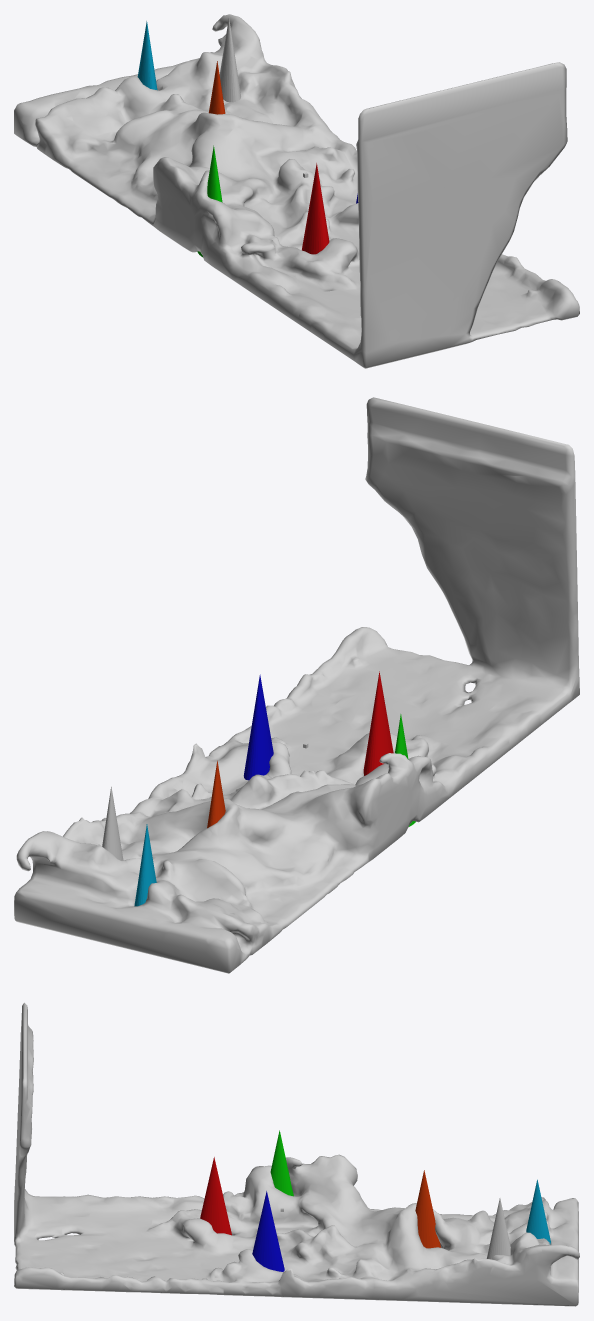
The picture shows the model from 3 angles, top to bottom: view 1: azimuth 30°, elevation 25°; view 2: azimuth 150°, elevation 25°; view 3: azimuth 270°, elevation 25°; orthographic projection. The views are drawn at different scales.
Parts seen in each view (by area): view 1: Liquid_Domain, 円錐.001, 円錐, 円錐.005, 円錐.003, 円錐.004; view 2: Liquid_Domain, 円錐.002, 円錐.001, 円錐.005, 円錐; view 3: Liquid_Domain, 円錐.002, 円錐.001, 円錐.004, 円錐.003, 円錐, 円錐.005.
Boxes of the visible parts, x1,y1,x2,y2 form: Liquid_Domain: (14, 14, 579, 368); 円錐.001: (302, 163, 329, 254); 円錐: (219, 17, 240, 102); 円錐.005: (137, 21, 157, 90); 円錐.003: (197, 145, 222, 257); 円錐.004: (208, 61, 225, 114); Liquid_Domain: (14, 397, 579, 973); 円錐.002: (243, 674, 273, 780); 円錐.001: (363, 671, 393, 775); 円錐.005: (134, 824, 156, 906); 円錐: (102, 786, 123, 860); Liquid_Domain: (14, 1002, 579, 1306); 円錐.002: (252, 1191, 284, 1271); 円錐.001: (200, 1157, 231, 1235); 円錐.004: (415, 1170, 440, 1248); 円錐.003: (270, 1130, 293, 1196); 円錐: (486, 1198, 510, 1259); 円錐.005: (526, 1179, 550, 1244).
Bounding box in the file's own units: 129 × 158 × 362.
